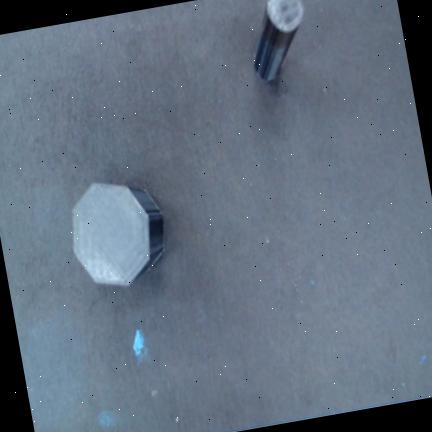Cilindro: (254, 0, 306, 81)
Prisma_hexagonal: (72, 183, 164, 285)
